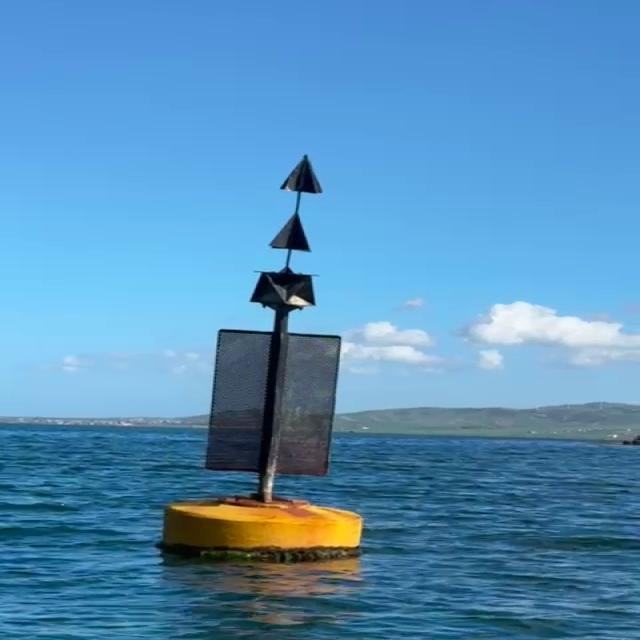marque: (155, 156, 370, 570)
